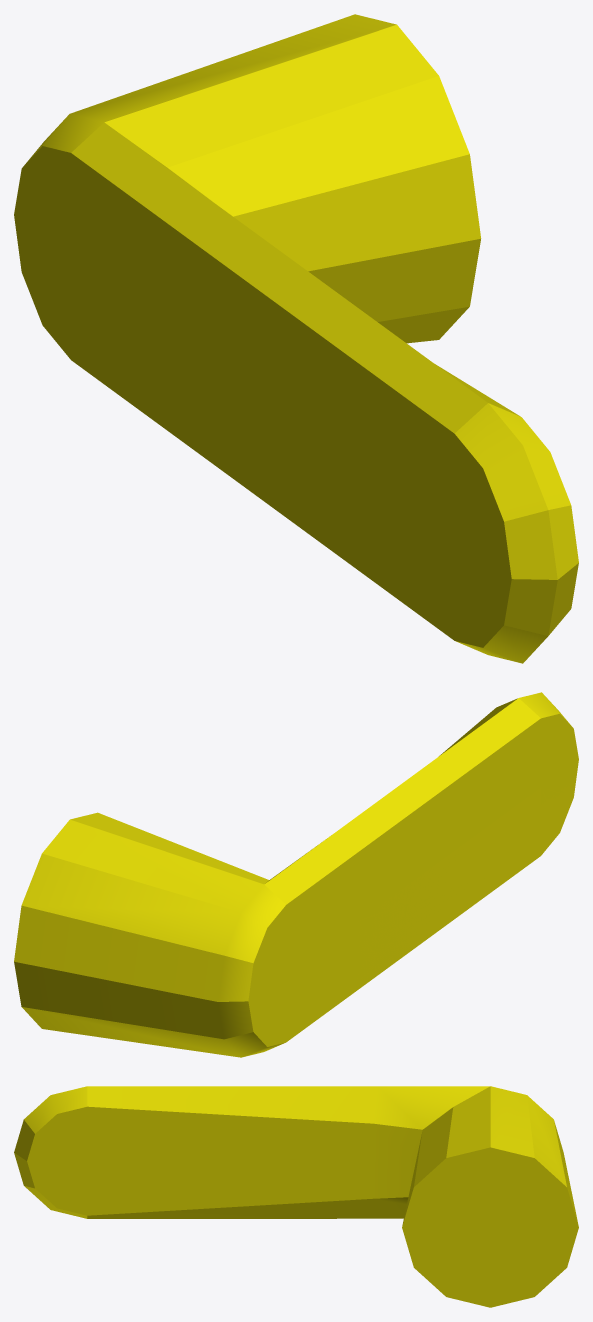
Rendered from Window_A_Handle_02.fbx.
3 views of the same model, one above another, from view 1: azimuth 30°, elevation 25°; view 2: azimuth 150°, elevation 25°; view 3: azimuth 270°, elevation 25° (orthographic). The views are drawn at different scales.
Parts seen in each view (by area): view 1: Window_A_Handle_02; view 2: Window_A_Handle_02; view 3: Window_A_Handle_02.
Boxes of the visible parts, x1,y1,x2,y2 form: Window_A_Handle_02: (14, 14, 578, 663); Window_A_Handle_02: (14, 692, 578, 1057); Window_A_Handle_02: (14, 1086, 578, 1307).
Size of the model in its own units: 6.52 by 5.83 by 18.61.
